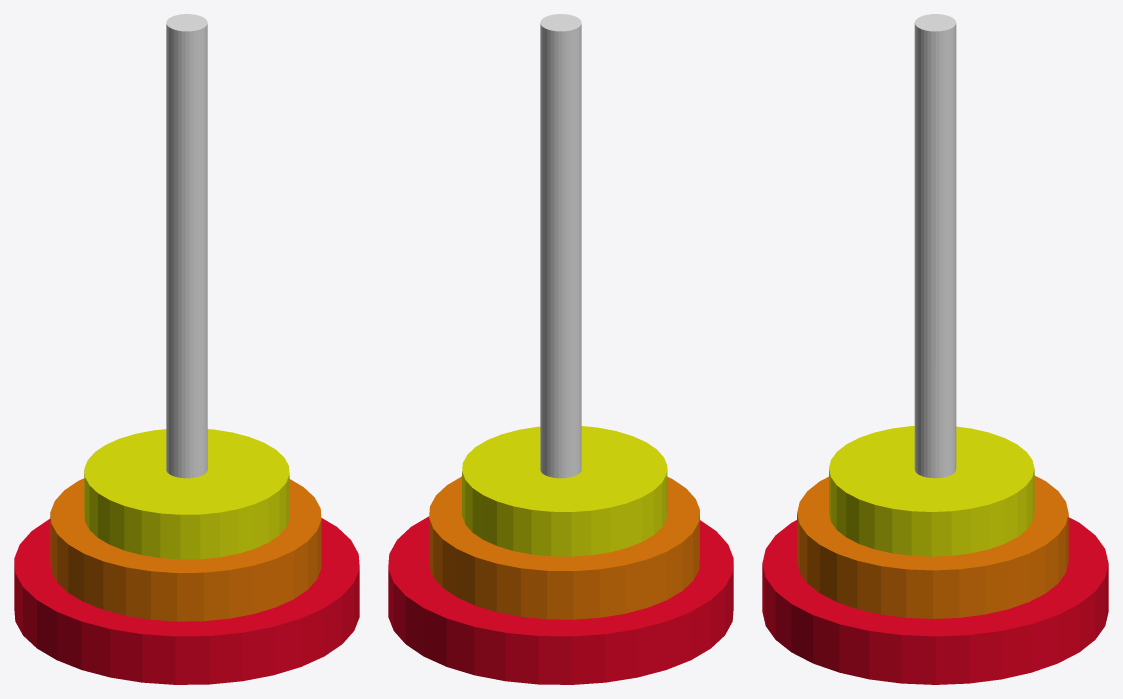
Rendered from Towers of Hanoi 3 Ring.fbx.
The picture shows the model from 3 angles, left to right: view 1: azimuth 30°, elevation 25°; view 2: azimuth 150°, elevation 25°; view 3: azimuth 270°, elevation 25°; orthographic projection.
Visible parts, largest first — view 1: Cylinder.001, Cylinder.003, Cylinder.002, Cylinder; view 2: Cylinder.001, Cylinder.003, Cylinder.002, Cylinder; view 3: Cylinder.001, Cylinder.003, Cylinder.002, Cylinder.
Boxes of the visible parts, x1,y1,x2,y2 form: Cylinder.001: [14, 518, 359, 684]; Cylinder.003: [84, 429, 289, 559]; Cylinder.002: [50, 478, 321, 621]; Cylinder: [166, 14, 207, 478]; Cylinder.001: [388, 516, 733, 684]; Cylinder.003: [462, 426, 667, 556]; Cylinder.002: [429, 476, 699, 619]; Cylinder: [540, 14, 581, 478]; Cylinder.001: [762, 517, 1108, 684]; Cylinder.003: [829, 426, 1034, 556]; Cylinder.002: [797, 476, 1068, 618]; Cylinder: [914, 14, 956, 478].
Size of the model in its own units: 270 by 506 by 270.
